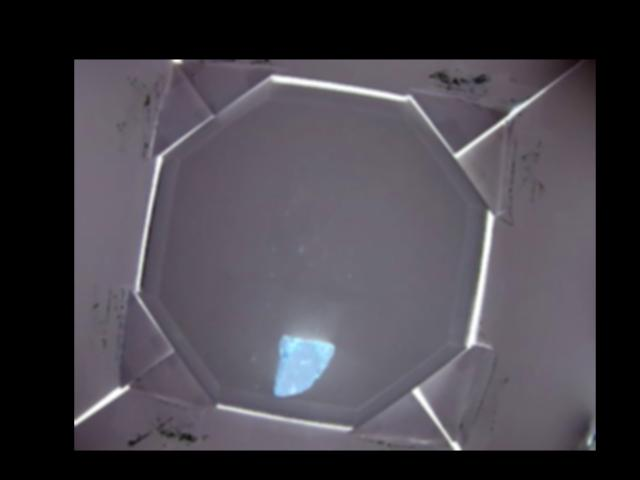Brisk: (273, 335, 335, 398)
